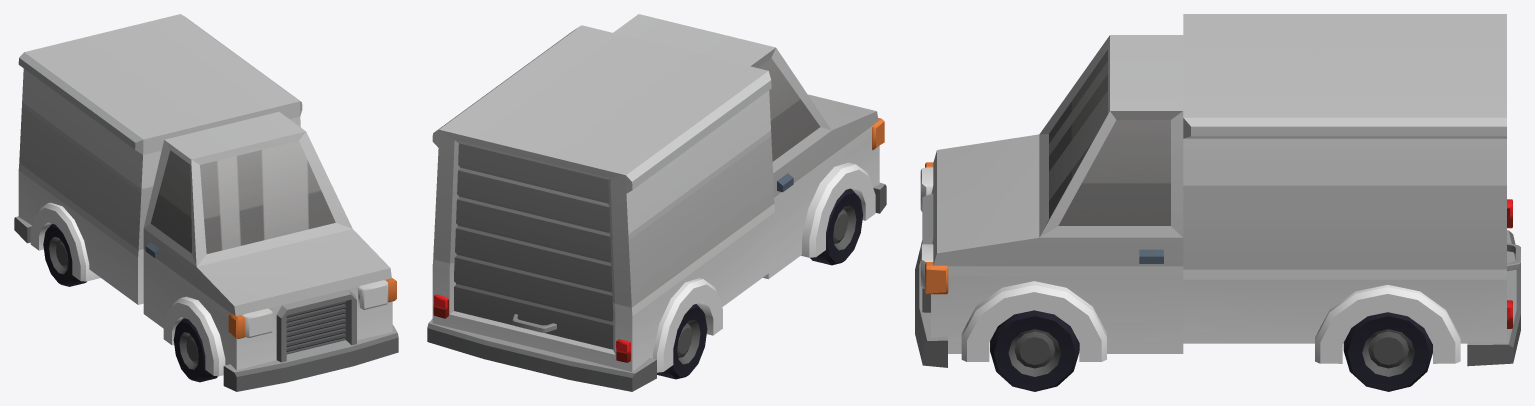
Rendered from PostCar_16.glb.
3 views of the same model, side by side, from view 1: azimuth 30°, elevation 25°; view 2: azimuth 150°, elevation 25°; view 3: azimuth 270°, elevation 25° (orthographic). The views are drawn at different scales.
Parts seen in each view (by area): view 1: PostCar_16, Wheel_FR, Wheel_BR; view 2: PostCar_16, Wheel_FR, Wheel_BR; view 3: PostCar_16, Wheel_FL, Wheel_BL.
Part boxes in pixels (x1,y1,x2,y2): PostCar_16: (14,14,398,391); Wheel_FR: (173,318,217,382); Wheel_BR: (43,224,86,286); PostCar_16: (427,14,886,391); Wheel_FR: (810,188,863,265); Wheel_BR: (657,304,707,379); PostCar_16: (915,14,1520,367); Wheel_FL: (990,310,1079,391); Wheel_BL: (1343,312,1432,391).
Bounding box in the file's own units: 1.18 × 1.24 × 2.51.
5 materials, 5 textured.
